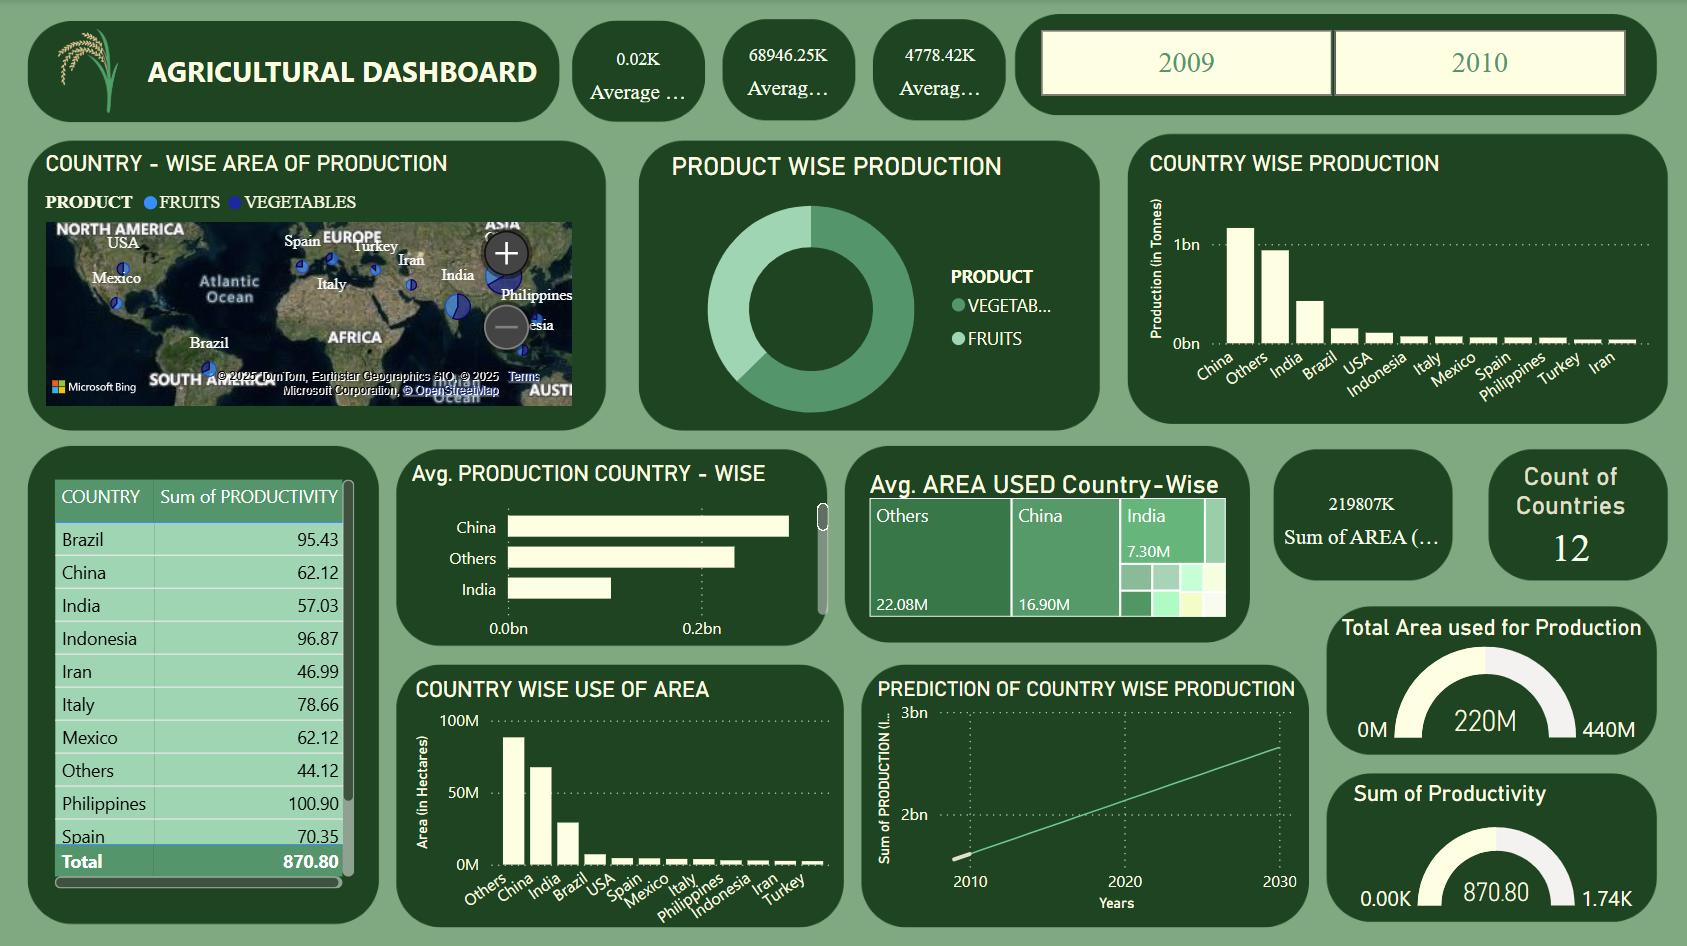

The dashboard page shown, as its layout file describes it:
{"tool":"powerbi","page":{"name":"Dashboard","canvas":[1280,720],"ordinal":0},"visuals":[{"type":"textbox","box":[107.7,34.9,332.1,40.9],"z":0},{"type":"slicer","fields":{"Values":["Transformed Dataset.YEAR.Variation.Date Hierarchy.Year"]},"box":[764.4,16.7,492.9,63.7],"z":1000},{"type":"card","fields":{"Values":["Avg(Transformed Dataset.PRODUCTIVITY)"]},"box":[439.8,28.8,89.5,54.6],"z":2000},{"type":"card","fields":{"Values":["Avg(Transformed Dataset.PRODUCTION (IN TONNES))"]},"box":[561.1,25.8,74.3,54.6],"z":3000},{"type":"card","fields":{"Values":["Avg(Transformed Dataset.AREA (IN HECTARES))"]},"box":[676.4,25.8,74.3,54.6],"z":4000},{"type":"clusteredColumnChart","title":"COUNTRY WISE PRODUCTION","fields":{"Category":["Transformed Dataset.COUNTRY"],"Y":["Sum(Transformed Dataset.PRODUCTION (IN TONNES))"]},"box":[867.5,115.3,389.8,210.8],"z":5000},{"type":"map","title":"COUNTRY - WISE AREA OF PRODUCTION","fields":{"Category":["Transformed Dataset.COUNTRY"],"Size":["Sum(Transformed Dataset.AREA (IN HECTARES))"],"Series":["Transformed Dataset.PRODUCT"]},"box":[36.8,115.3,408.6,198.8],"z":6000},{"type":"donutChart","title":"PRODUCT WISE PRODUCTION","fields":{"Y":["Sum(Transformed Dataset.PRODUCTION (IN TONNES))"],"Category":["Transformed Dataset.PRODUCT"]},"box":[505,115.3,312.4,222.9],"z":7000},{"type":"tableEx","fields":{"Values":["Transformed Dataset.COUNTRY","Sum(Transformed Dataset.PRODUCTIVITY)"]},"box":[36.4,359.4,238.1,320],"z":8000},{"type":"gauge","title":"Sum of Productivity","fields":{"Y":["Sum(Transformed Dataset.PRODUCTIVITY)"]},"box":[1022.1,593.3,226.3,115.5],"z":9000},{"type":"gauge","title":"Total Area used for Production","fields":{"Y":["Sum(Transformed Dataset.AREA (IN HECTARES))"]},"box":[1012.6,466.7,245.2,102.8],"z":10000},{"type":"clusteredColumnChart","title":"COUNTRY WISE USE OF AREA","fields":{"Category":["Transformed Dataset.COUNTRY"],"Y":["Sum(Transformed Dataset.AREA (IN HECTARES))"]},"box":[310.9,514.1,327.6,206.3],"z":11000},{"type":"image","box":[0,12.1,191.1,83.4],"z":12000},{"type":"lineChart","title":"PREDICTION OF COUNTRY WISE PRODUCTION","fields":{"Category":["Transformed Dataset.YEAR.Variation.Date Hierarchy.Year"],"Y":["Sum(Transformed Dataset.PRODUCTION (IN TONNES))"]},"box":[661.4,514.2,327.5,182],"z":13000},{"type":"barChart","title":"Avg. PRODUCTION COUNTRY - WISE","fields":{"Category":["Transformed Dataset.COUNTRY"],"Y":["Avg(Transformed Dataset.PRODUCTION (IN TONNES))"]},"box":[308.5,349.7,325.9,145.6],"z":14000},{"type":"treemap","title":"Avg. AREA USED Country-Wise","fields":{"Group":["Transformed Dataset.COUNTRY"],"Values":["Avg(Transformed Dataset.AREA (IN HECTARES))"]},"box":[655,356,280,117.1],"z":15000},{"type":"card","fields":{"Values":["Sum(Transformed Dataset.AREA (IN HECTARES))"]},"box":[968.3,349.7,131.3,87],"z":16000},{"type":"card","title":"Count of Countries","fields":{"Values":["Count(Transformed Dataset.COUNTRY)"]},"box":[1124.9,349.7,132.9,87],"z":17000}]}

Visuals, with their boxes in screenshot pixels (x1, y1, x2, y2), scaled from the page's 1280x720 canvas onto the 1687x946 screenshot:
textbox: bbox=(142, 46, 580, 100)
slicer - Transformed Dataset.YEAR.Variation.Date Hierarchy.Year: bbox=(1007, 22, 1657, 106)
card - Avg(Transformed Dataset.PRODUCTIVITY): bbox=(580, 38, 698, 110)
card - Avg(Transformed Dataset.PRODUCTION (IN TONNES)): bbox=(740, 34, 837, 106)
card - Avg(Transformed Dataset.AREA (IN HECTARES)): bbox=(891, 34, 989, 106)
"COUNTRY WISE PRODUCTION" clusteredColumnChart: bbox=(1143, 151, 1657, 428)
"COUNTRY - WISE AREA OF PRODUCTION" map: bbox=(49, 151, 587, 413)
"PRODUCT WISE PRODUCTION" donutChart: bbox=(666, 151, 1077, 444)
tableEx - Transformed Dataset.COUNTRY x Sum(Transformed Dataset.PRODUCTIVITY): bbox=(48, 472, 362, 893)
"Sum of Productivity" gauge: bbox=(1347, 780, 1645, 931)
"Total Area used for Production" gauge: bbox=(1335, 613, 1658, 748)
"COUNTRY WISE USE OF AREA" clusteredColumnChart: bbox=(410, 675, 842, 945)
image: bbox=(0, 16, 252, 125)
"PREDICTION OF COUNTRY WISE PRODUCTION" lineChart: bbox=(872, 676, 1303, 915)
"Avg. PRODUCTION COUNTRY - WISE" barChart: bbox=(407, 459, 836, 651)
"Avg. AREA USED Country-Wise" treemap: bbox=(863, 468, 1232, 622)
card - Sum(Transformed Dataset.AREA (IN HECTARES)): bbox=(1276, 459, 1449, 574)
"Count of Countries" card: bbox=(1483, 459, 1658, 574)
